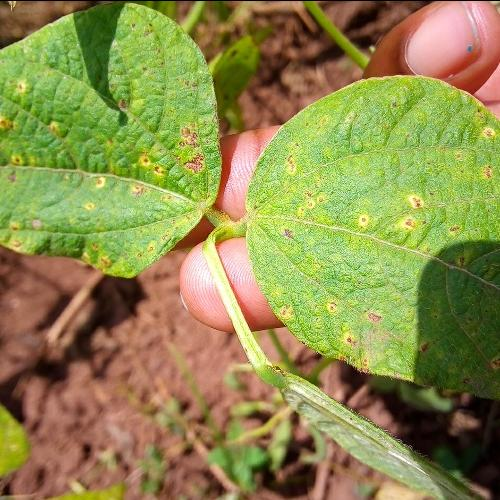hawar: (305, 134, 500, 398), (29, 31, 214, 278)
